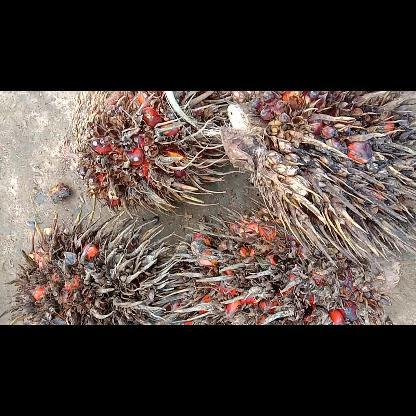Terlalu masak: (218, 90, 414, 272), (171, 206, 398, 324), (60, 90, 240, 222), (0, 210, 196, 324)
